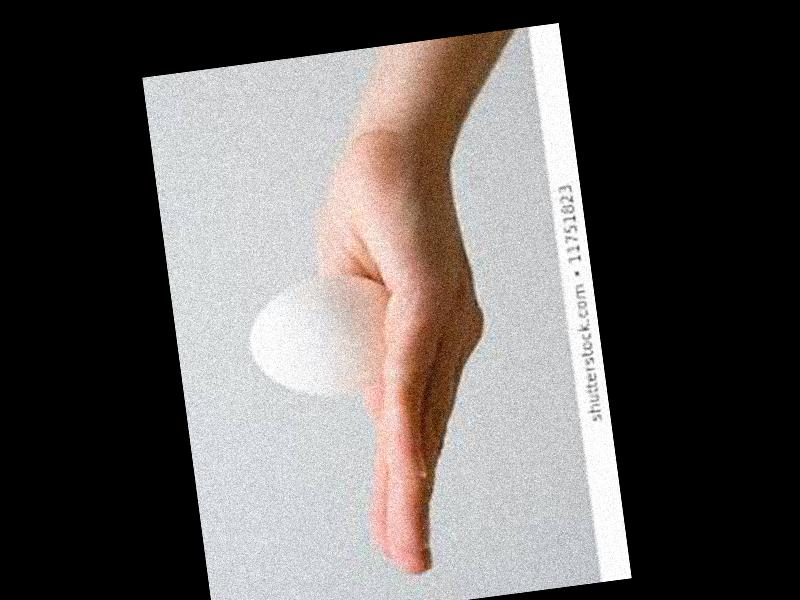Eggs: (244, 275, 401, 405)
